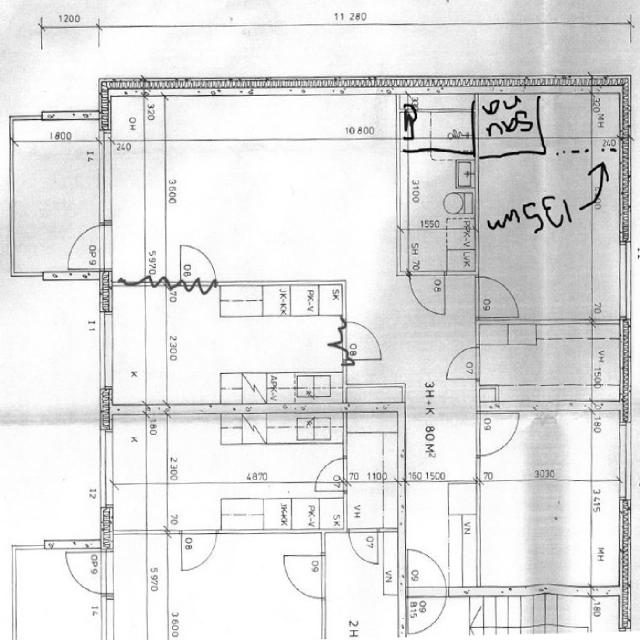door: (475, 272, 521, 321), (476, 409, 520, 459), (64, 548, 107, 595), (284, 552, 326, 599), (177, 242, 218, 288), (343, 319, 385, 363), (405, 546, 447, 590), (179, 528, 218, 574), (67, 223, 102, 271), (408, 270, 446, 314), (443, 342, 481, 382), (348, 528, 382, 565), (314, 456, 346, 486), (587, 584, 612, 606)
window: (97, 427, 116, 512), (622, 418, 637, 505)
zone: (168, 128, 396, 280), (166, 284, 349, 405), (162, 413, 340, 528), (0, 420, 103, 546), (475, 321, 614, 410), (403, 102, 474, 244), (344, 418, 402, 484), (64, 547, 107, 595), (405, 545, 447, 592)
